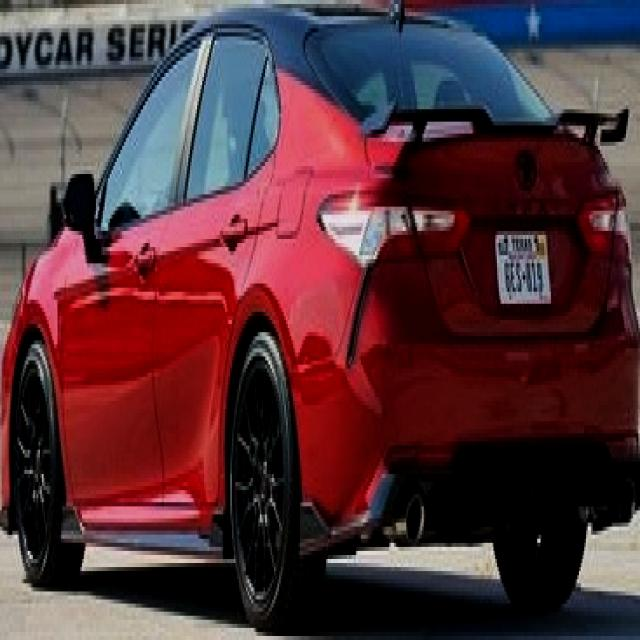red: (4, 21, 639, 606)
